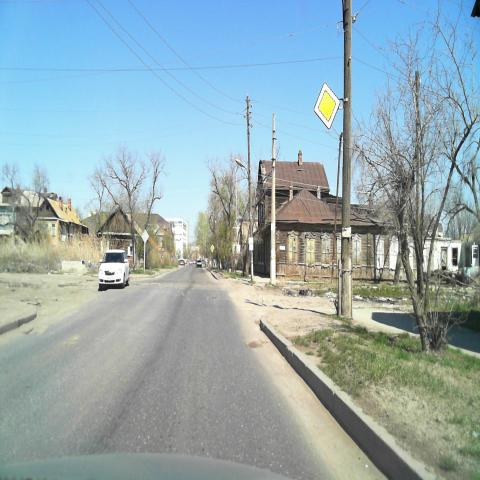2_1: (314, 81, 340, 130), (210, 244, 214, 253)
